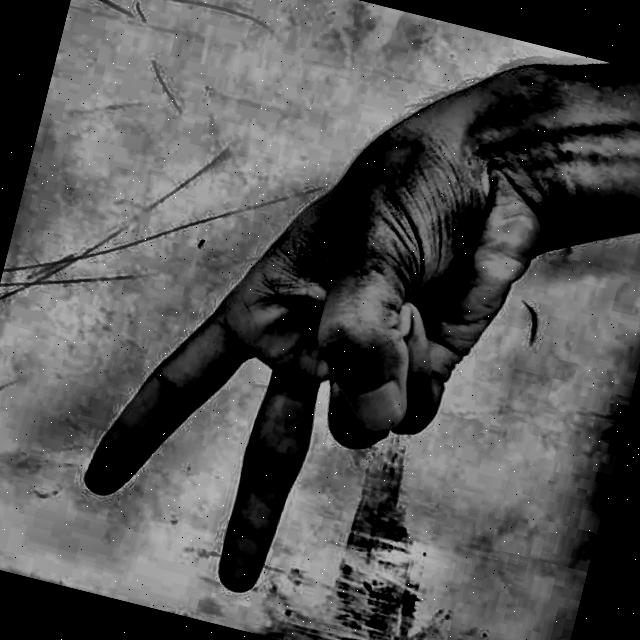Pa: (34, 9, 591, 640)
